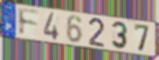2: (89, 17, 106, 48)
3: (111, 20, 130, 50)
4: (43, 11, 61, 42)
6: (65, 14, 84, 46)
7: (133, 23, 152, 53)
F: (17, 7, 40, 37)
